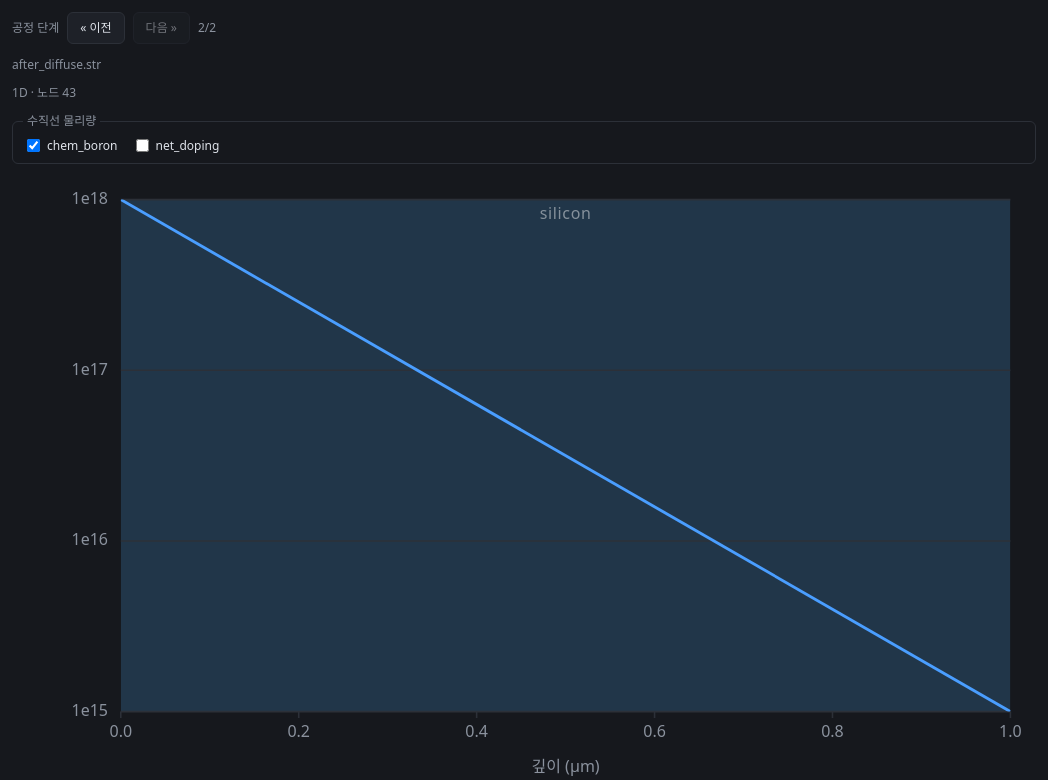
it: 물리량 선택 › 모두 해제하면 안내한다
Step 1. Click the checkbox labelled "chem_boron" → click(34, 146), box top-left (27, 139), bottom-right (40, 152)
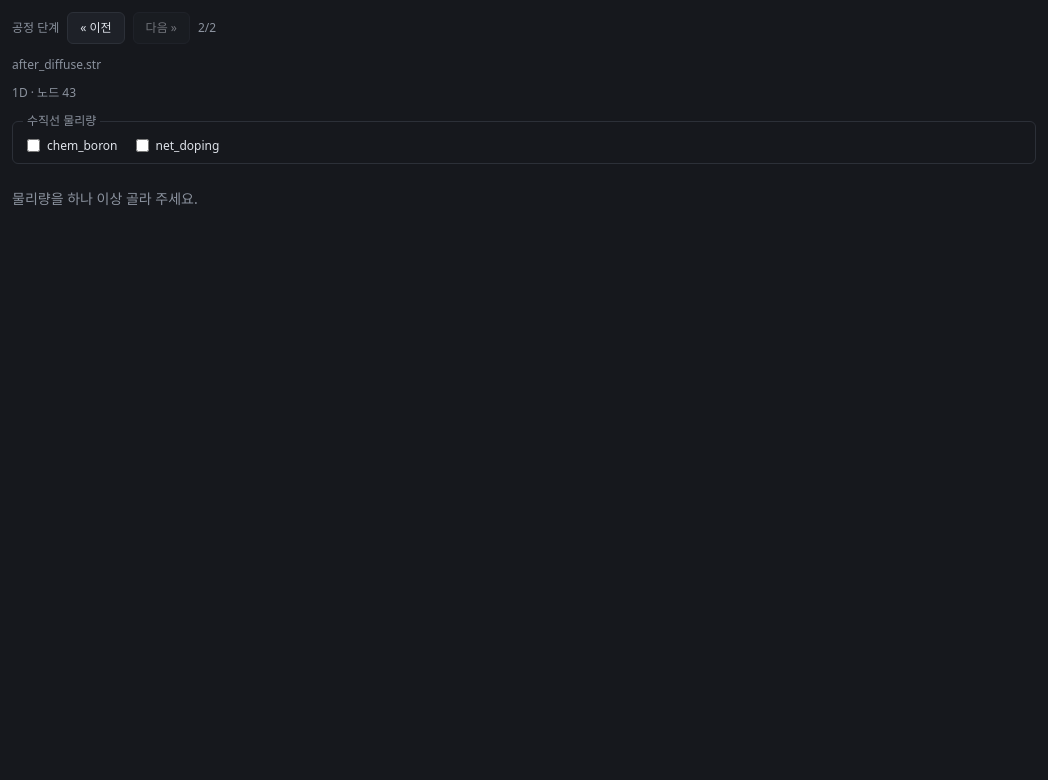
Now the text "물리량을 하나 이상 골라 주세요." is shown, box top-left (12, 189), bottom-right (198, 208)
